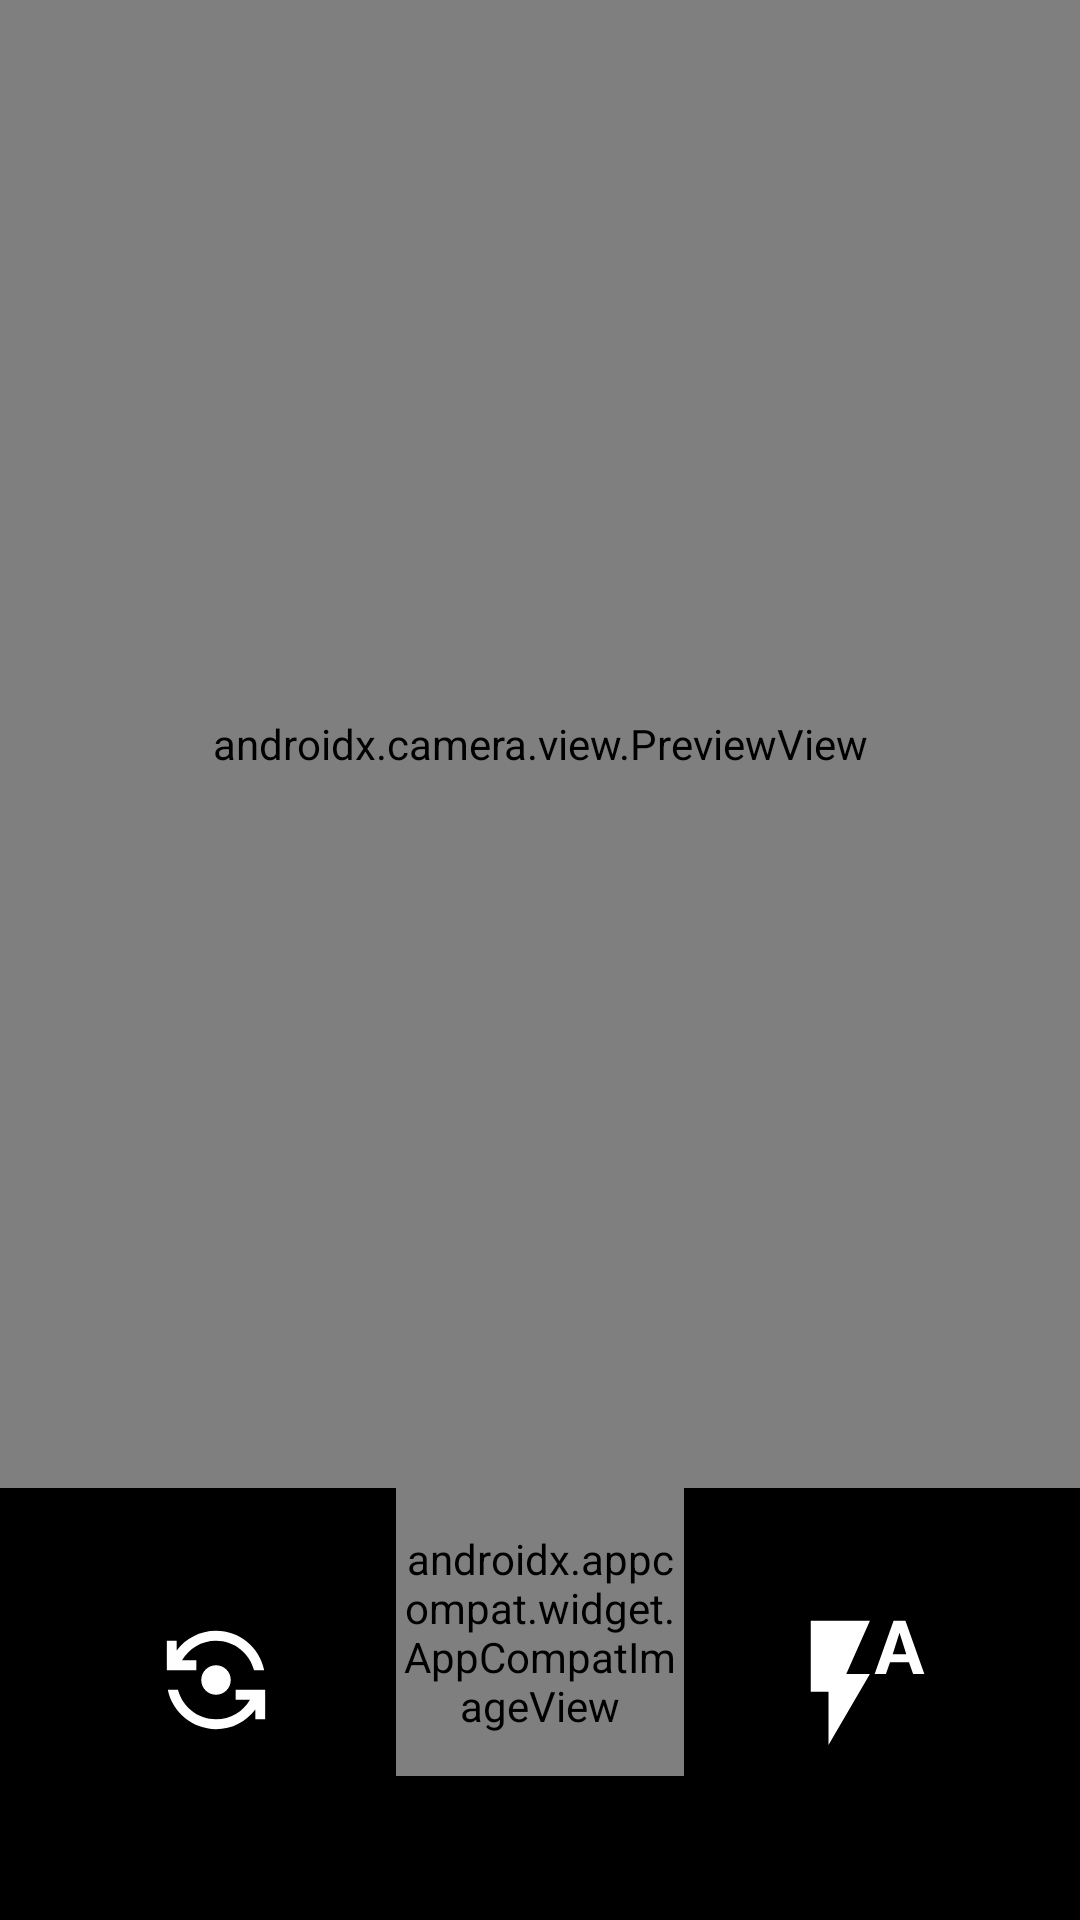

Icon bounding boxes for this 1080w x 1920h phone screenshot, format (x1, y1, x2, y2):
flash auto: (810, 1620, 925, 1745)
switch camera: (166, 1630, 266, 1730)
